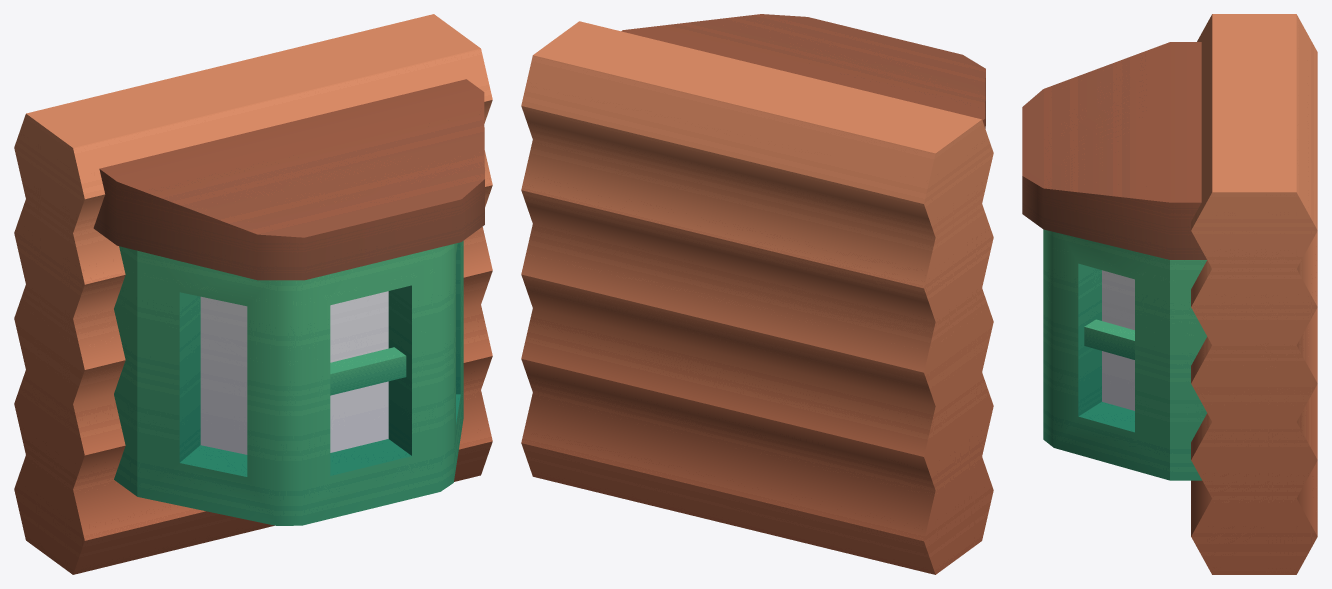
The model's file is cabin-window-large.glb.
3 views of the same model, side by side, from view 1: azimuth 30°, elevation 25°; view 2: azimuth 150°, elevation 25°; view 3: azimuth 270°, elevation 25° (orthographic). The views are drawn at different scales.
Parts seen in each view (by area): view 1: cabin-window-large; view 2: cabin-window-large; view 3: cabin-window-large.
Boxes of the visible parts, x1,y1,x2,y2 form: cabin-window-large: [14, 14, 492, 574]; cabin-window-large: [521, 14, 993, 574]; cabin-window-large: [1022, 14, 1317, 574].
Bounding box in the file's own units: 3 × 3 × 2.1.
1 material, 1 textured.
